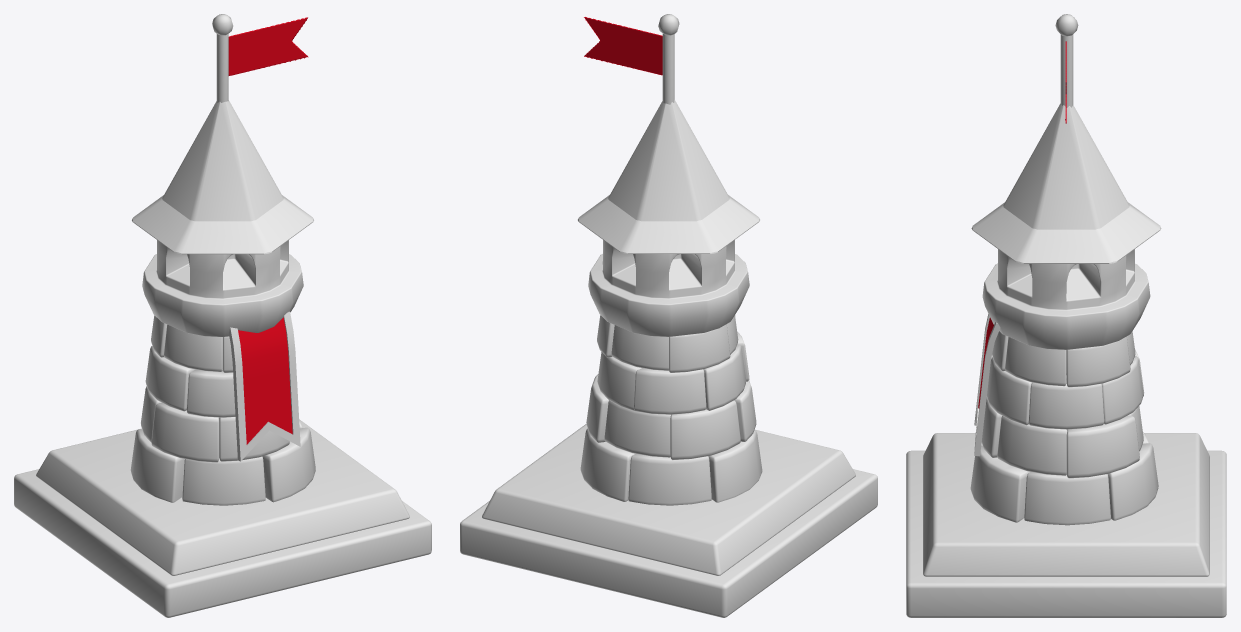
File: Turm_Klassisch_0206.fbx
3 views of the same model, side by side, from view 1: azimuth 30°, elevation 25°; view 2: azimuth 150°, elevation 25°; view 3: azimuth 270°, elevation 25° (orthographic). The views are drawn at different scales.
Visible parts, largest first — view 1: base2_L_Podest_Schach.blend, base_L_Podest_Schach.blend, Cone, Cylinder.024, Banner_rot, Cylinder.019, Cylinder.013, Flag_v2, Banner.001, Cylinder.018, Cylinder.020, Cylinder.007 (+5 smaller); view 2: base2_L_Podest_Schach.blend, base_L_Podest_Schach.blend, Cone, Cylinder.024, Cylinder.021, Cylinder.014, Cylinder.009, Flag_v2, Cylinder.015, Cylinder.020, Cylinder.022, Cylinder.002 (+6 smaller); view 3: base2_L_Podest_Schach.blend, base_L_Podest_Schach.blend, Cone, Cylinder.024, Cylinder.023, Cylinder.016, Cylinder.011, Cylinder.017, Cylinder.018, Cylinder.022, Cylinder.004, Cylinder.005 (+6 smaller).
Part boxes in pixels (bbox=[...]): base2_L_Podest_Schach.blend: bbox=[36, 419, 409, 575]; base_L_Podest_Schach.blend: bbox=[14, 469, 431, 617]; Cone: bbox=[132, 100, 313, 254]; Cylinder.024: bbox=[142, 240, 303, 336]; Banner_rot: bbox=[238, 317, 292, 444]; Cylinder.019: bbox=[182, 456, 265, 505]; Cylinder.013: bbox=[151, 402, 219, 462]; Flag_v2: bbox=[228, 17, 308, 75]; Banner.001: bbox=[229, 311, 300, 461]; Cylinder.018: bbox=[262, 427, 315, 502]; Cylinder.020: bbox=[130, 429, 184, 502]; Cylinder.007: bbox=[187, 369, 235, 417]; base2_L_Podest_Schach.blend: bbox=[482, 424, 855, 575]; base_L_Podest_Schach.blend: bbox=[460, 469, 877, 617]; Cone: bbox=[578, 99, 759, 253]; Cylinder.024: bbox=[588, 240, 749, 336]; Cylinder.021: bbox=[628, 454, 711, 505]; Cylinder.014: bbox=[670, 400, 740, 460]; Cylinder.009: bbox=[634, 368, 706, 414]; Flag_v2: bbox=[584, 17, 662, 75]; Cylinder.015: bbox=[604, 400, 670, 457]; Cylinder.020: bbox=[708, 430, 762, 502]; Cylinder.022: bbox=[580, 428, 635, 501]; Cylinder.002: bbox=[669, 324, 730, 372]; base2_L_Podest_Schach.blend: bbox=[923, 433, 1209, 576]; base_L_Podest_Schach.blend: bbox=[906, 450, 1226, 617]; Cone: bbox=[971, 103, 1161, 263]; Cylinder.024: bbox=[982, 249, 1150, 349]; Cylinder.023: bbox=[1024, 472, 1110, 525]; Cylinder.016: bbox=[1066, 415, 1139, 478]; Cylinder.011: bbox=[1028, 380, 1104, 429]; Cylinder.017: bbox=[997, 416, 1067, 475]; Cylinder.018: bbox=[970, 445, 1029, 522]; Cylinder.022: bbox=[1107, 443, 1158, 520]; Cylinder.004: bbox=[1066, 336, 1130, 387]; Cylinder.005: bbox=[1005, 337, 1066, 386].
Bounding box in the file's own units: 5 × 9.23 × 5.
